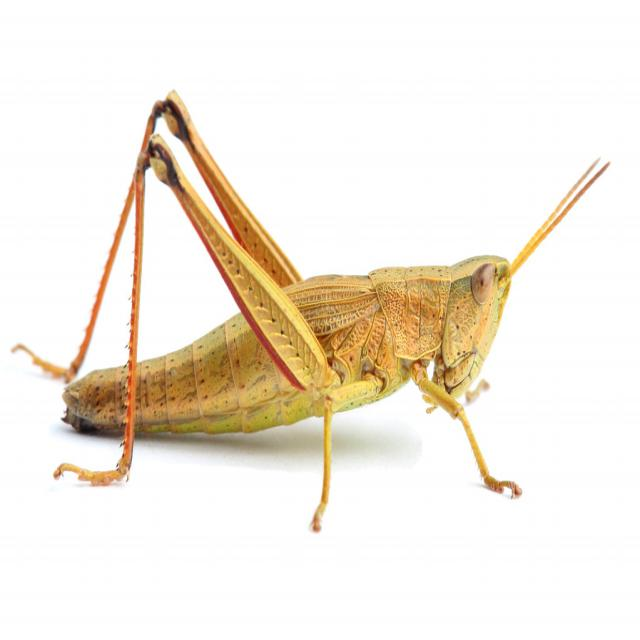ZhaMeng: (36, 86, 578, 503)
